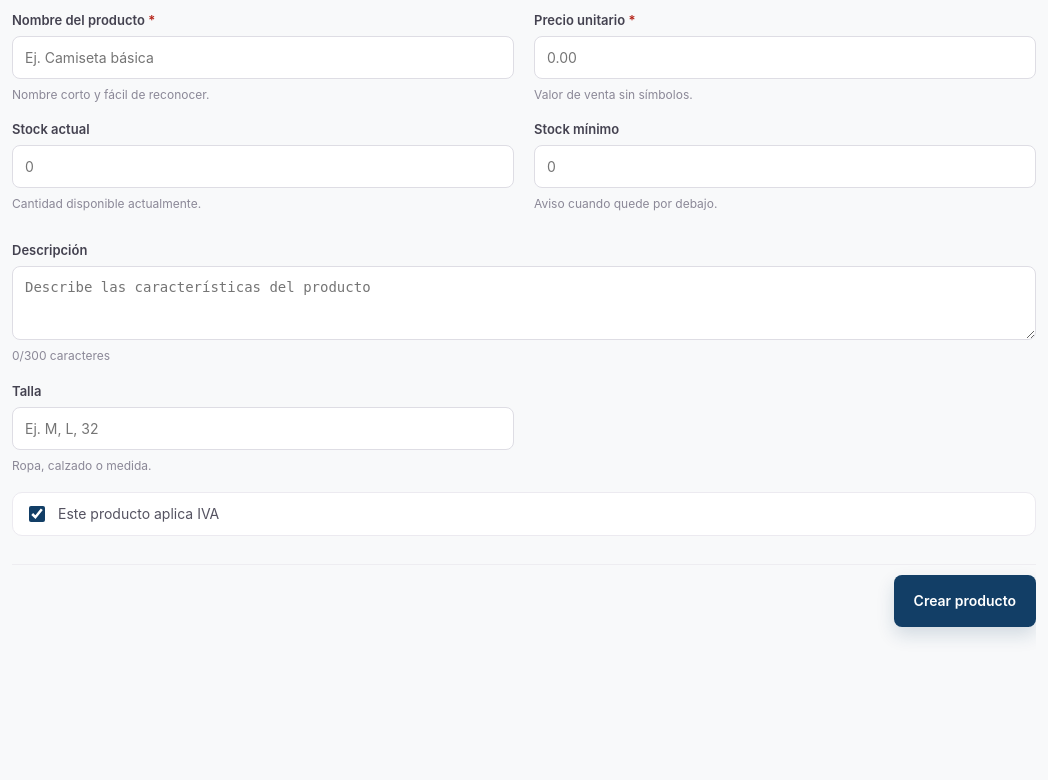
shows field-level validation and does not submit invalid values
This screenshot has width=1048, height=780.
Click the button "Crear producto" at (965, 601), box [894,575,1036,627]
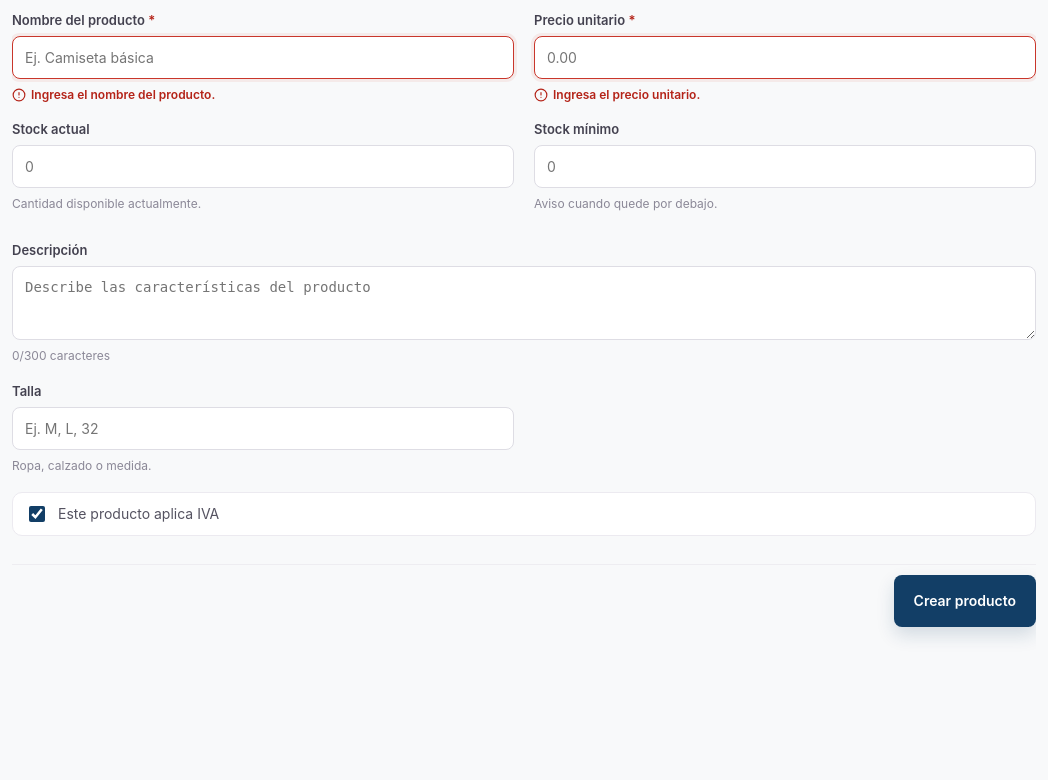
Now the text "Ingresa el nombre del producto." is shown, box [12,87,215,102]
Now the text "Ingresa el precio unitario." is shown, box [534,87,700,102]
